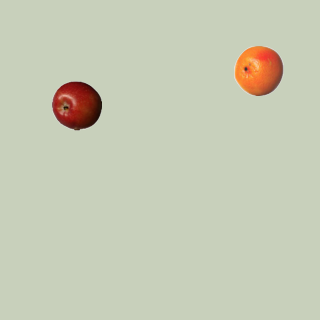Apple Braeburn: (51, 80, 101, 130)
Grapefruit Pink: (233, 45, 283, 95)
